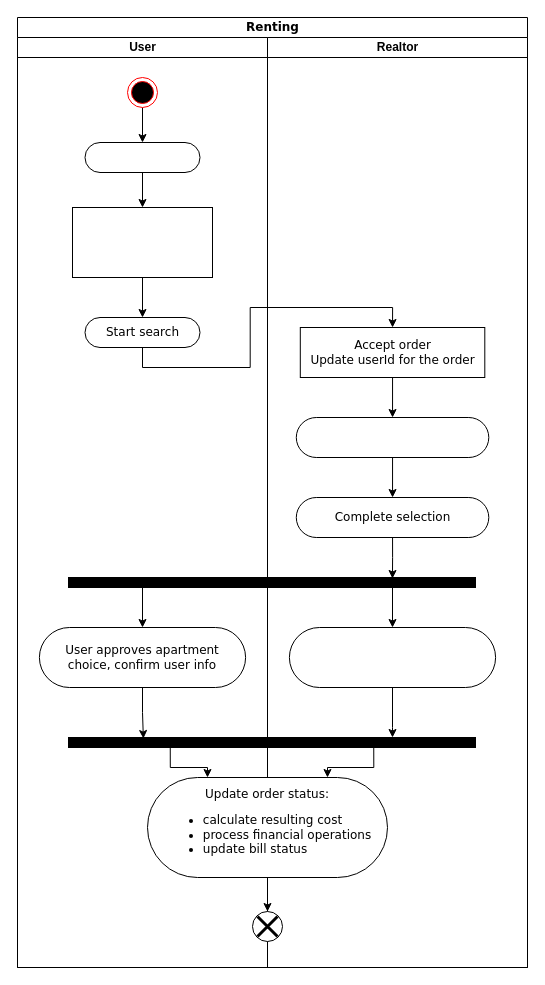
Some shapes in this 545 by 985 pixel diagram are drawn without their labels. The shapes that lost their labels are listed below. From the top down, each one's centre as x and y in pixels, then its label:
At point 142,157: "Start ordering".
At point 142,242: "Enter price, amount of people, city, city district".
At point 392,437: "Find the right apartments".
At point 392,657: "Realtor approves apartment choice, confirm user info".
